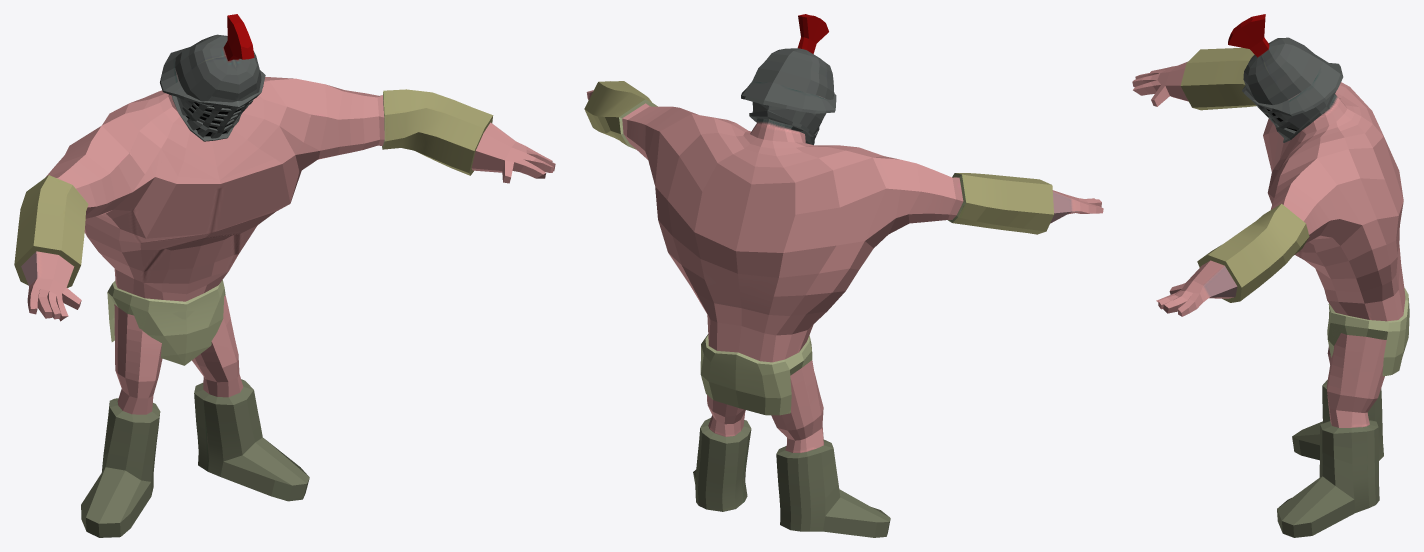
The model's file is GladiatorCelebracion_000524.obj.
The picture shows the model from 3 angles, left to right: view 1: azimuth 30°, elevation 25°; view 2: azimuth 150°, elevation 25°; view 3: azimuth 270°, elevation 25°; orthographic projection. The views are drawn at different scales.
Visible parts, largest first — view 1: Gadiador_Gladiador_H; view 2: Gadiador_Gladiador_H; view 3: Gadiador_Gladiador_H.
Part boxes in pixels (bbox=[...]): Gadiador_Gladiador_H: bbox=[14, 14, 555, 537]; Gadiador_Gladiador_H: bbox=[584, 14, 1103, 537]; Gadiador_Gladiador_H: bbox=[1132, 14, 1409, 537].
Bounding box in the file's own units: 7.85 × 7.14 × 3.73.
1 material, 1 textured.
